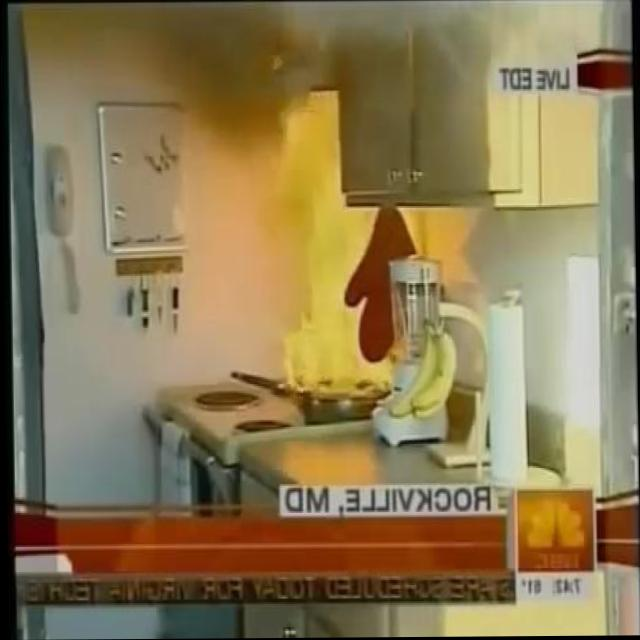fire: (257, 90, 421, 395)
